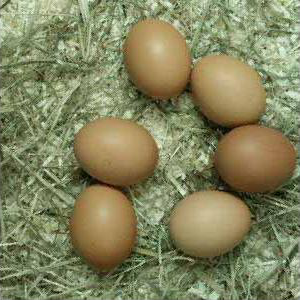egg: (75, 118, 158, 188), (169, 190, 253, 259), (71, 184, 137, 271), (215, 124, 297, 194), (191, 54, 266, 129), (125, 20, 191, 101)
